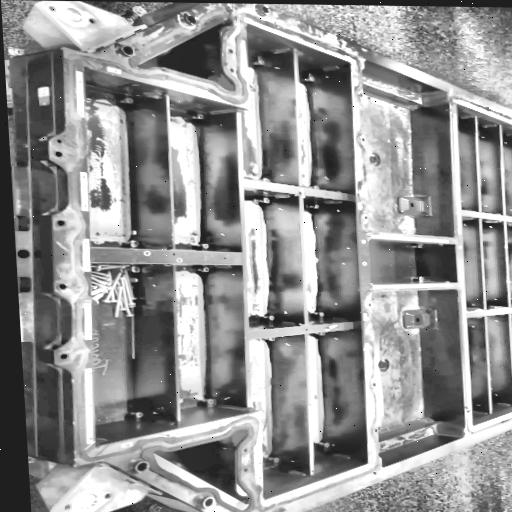b_casing: (47, 3, 512, 512)
